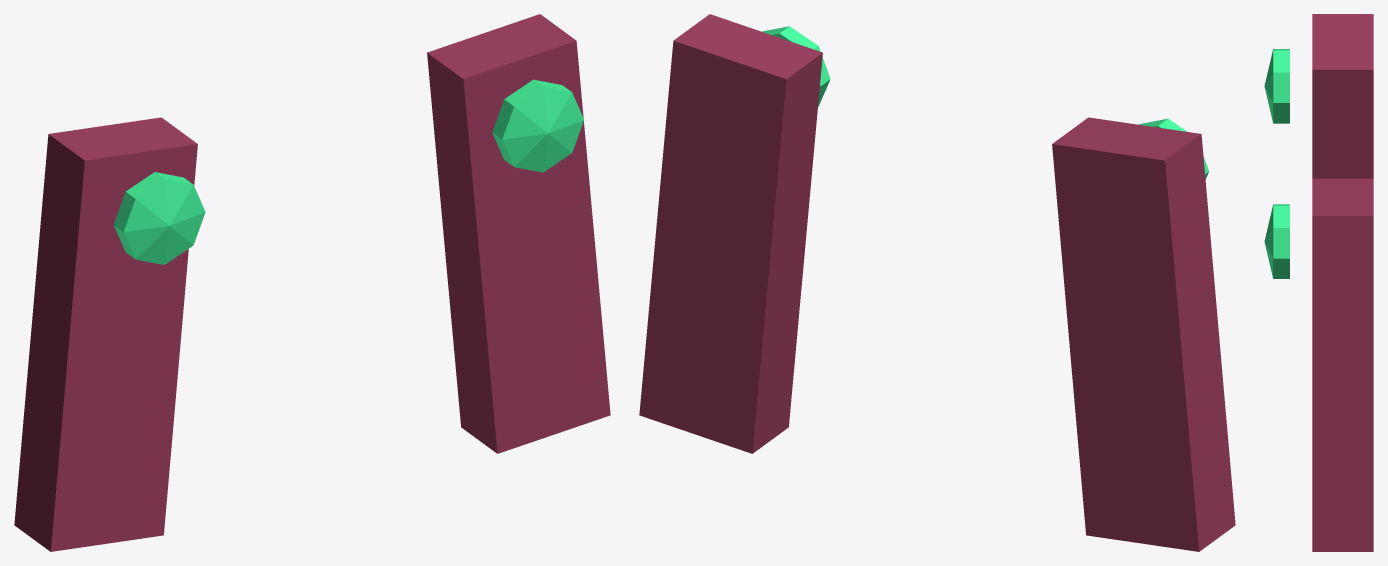
The model's file is split_ribbons.obj.
The picture shows the model from 3 angles, left to right: view 1: azimuth 30°, elevation 25°; view 2: azimuth 150°, elevation 25°; view 3: azimuth 270°, elevation 25°; orthographic projection. The views are drawn at different scales.
Visible parts, largest first — view 1: hem_ribbon_-0.3, hem_ribbon_0.3, hem_ribbon_-0.3_edge, hem_ribbon_0.3_edge, hem_gem_0.3, hem_gem_-0.3; view 2: hem_ribbon_-0.3, hem_ribbon_0.3, hem_ribbon_-0.3_edge, hem_ribbon_0.3_edge, hem_gem_0.3; view 3: hem_ribbon_0.3_edge, hem_ribbon_-0.3_edge, hem_gem_-0.3, hem_gem_0.3.
Part boxes in pixels (x1,y1,x2,y2): hem_ribbon_-0.3: (50,144,197,551); hem_ribbon_0.3: (463,40,610,453); hem_ribbon_-0.3_edge: (14,117,197,551); hem_ribbon_0.3_edge: (427,14,575,453); hem_gem_0.3: (492,79,583,172); hem_gem_-0.3: (113,172,205,264); hem_ribbon_-0.3: (1052,144,1199,551); hem_ribbon_0.3: (639,40,786,453); hem_ribbon_-0.3_edge: (1052,117,1235,551); hem_ribbon_0.3_edge: (674,14,822,453); hem_gem_0.3: (762,26,830,106); hem_ribbon_0.3_edge: (1312,178,1373,551); hem_ribbon_-0.3_edge: (1312,14,1373,178); hem_gem_-0.3: (1264,49,1289,123); hem_gem_0.3: (1264,204,1289,278).
Size of the model in its own units: 0.8872 by 0.5967 by 0.1779.
